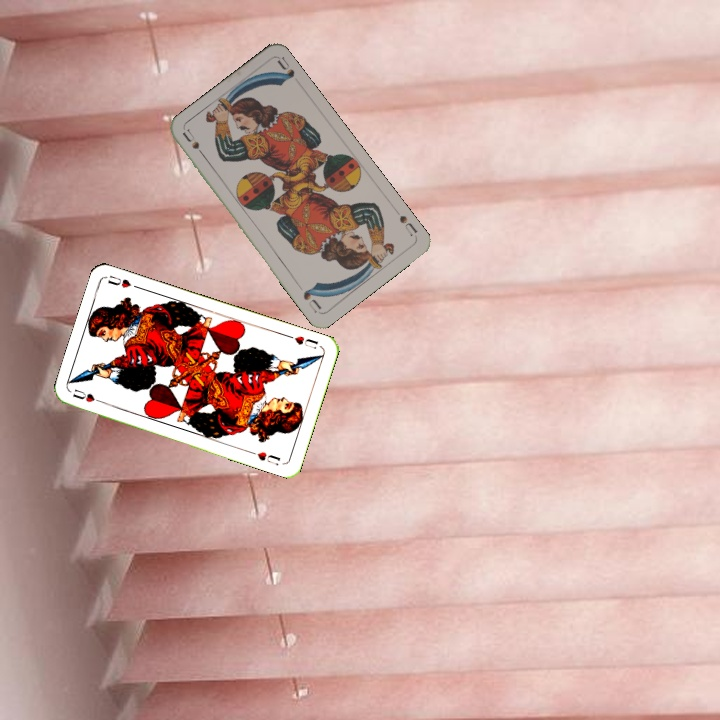HU: (68, 385, 107, 406), (284, 331, 321, 351)
SU: (179, 126, 210, 162), (395, 211, 420, 238)
